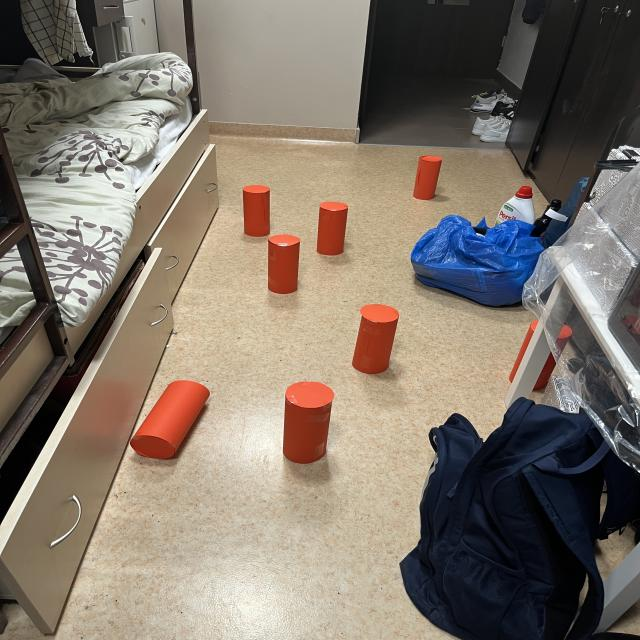przeszkoda: (130, 381, 209, 459), (283, 381, 334, 463), (352, 304, 399, 374), (268, 234, 300, 294), (317, 202, 348, 256), (243, 185, 270, 237), (413, 156, 442, 200)
